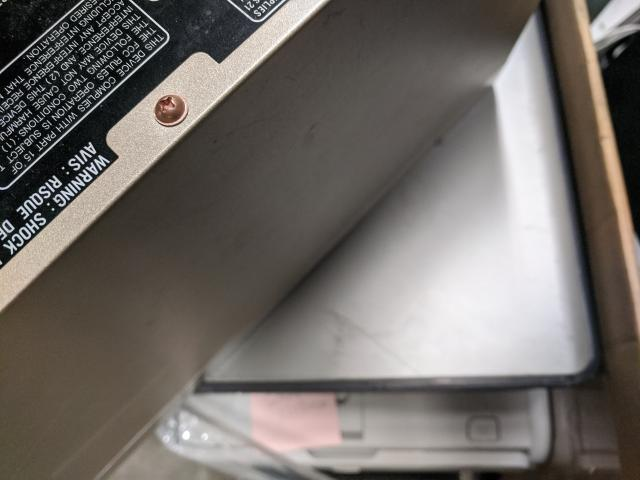CRS: (152, 93, 188, 126)
